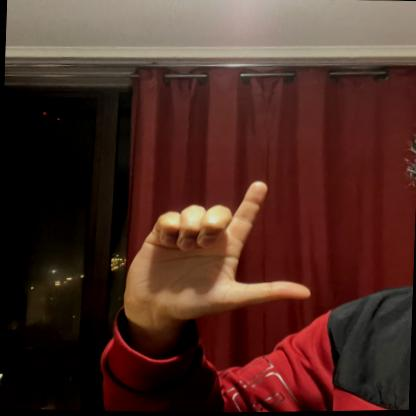L: (113, 173, 322, 334)
